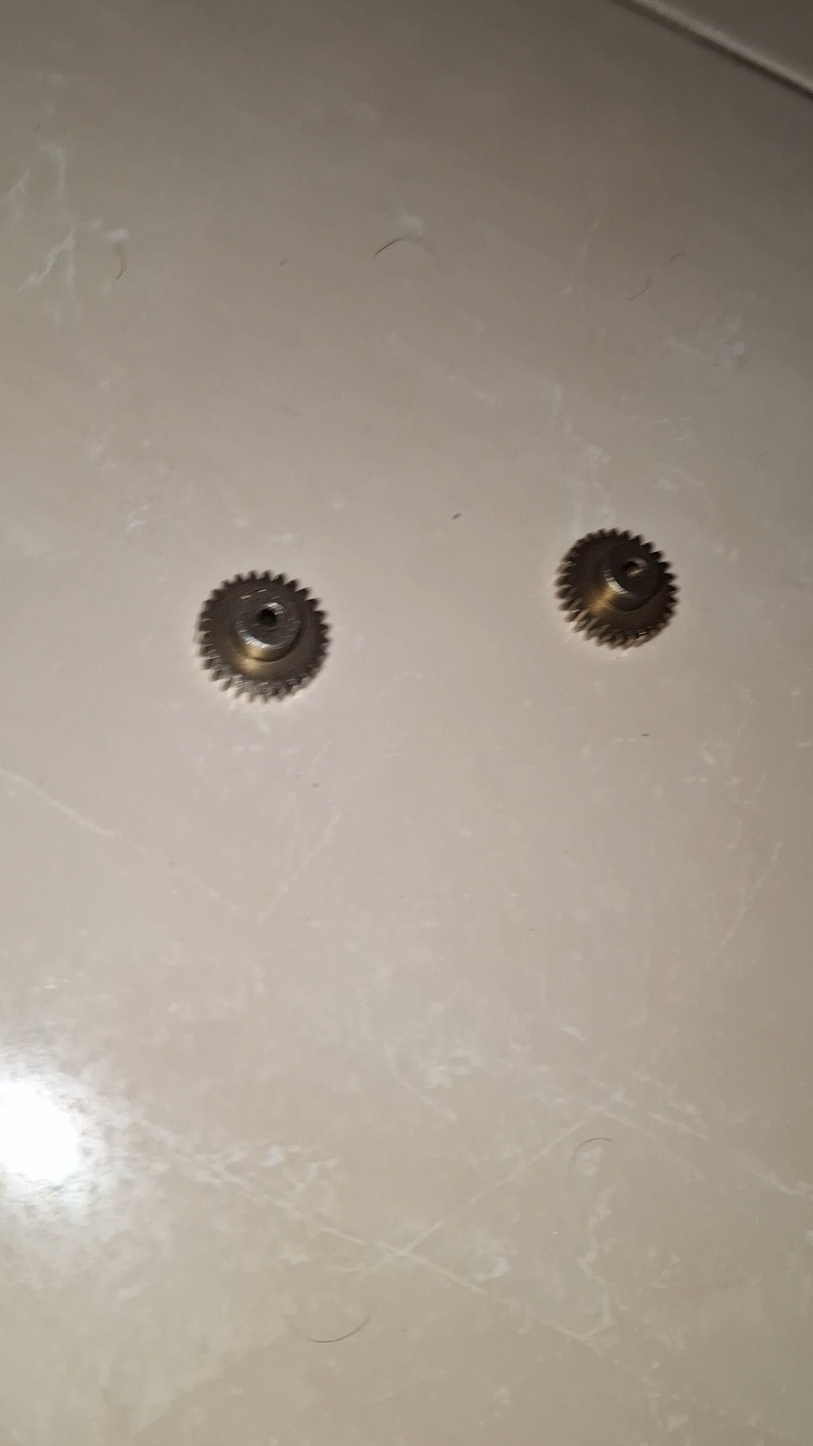spur gear: (197, 572, 328, 699), (556, 531, 677, 647)
